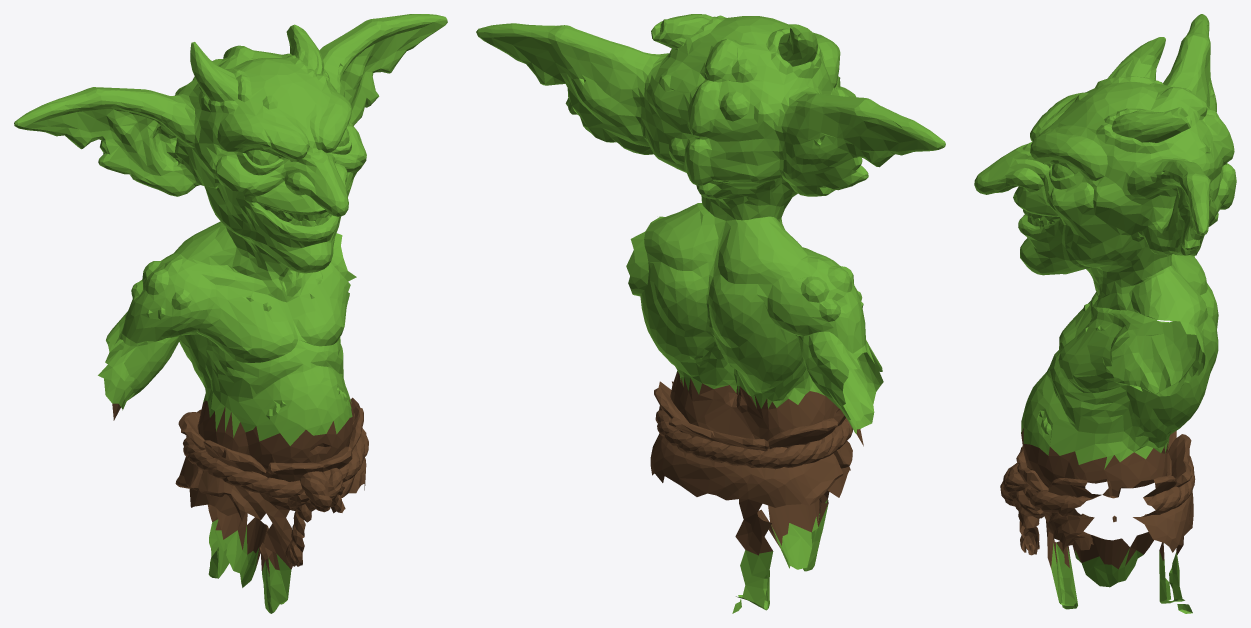
Rendered from bonkling_torso.obj.
The picture shows the model from 3 angles, left to right: view 1: azimuth 30°, elevation 25°; view 2: azimuth 150°, elevation 25°; view 3: azimuth 270°, elevation 25°; orthographic projection. The views are drawn at different scales.
Visible parts, largest first — view 1: Bonkling.001; view 2: Bonkling.001; view 3: Bonkling.001.
Boxes of the visible parts, x1,y1,x2,y2 form: Bonkling.001: (14,14,447,613); Bonkling.001: (476,14,945,613); Bonkling.001: (974,14,1236,613).
Size of the model in its own units: 0.8571 by 1.03 by 0.4395.
